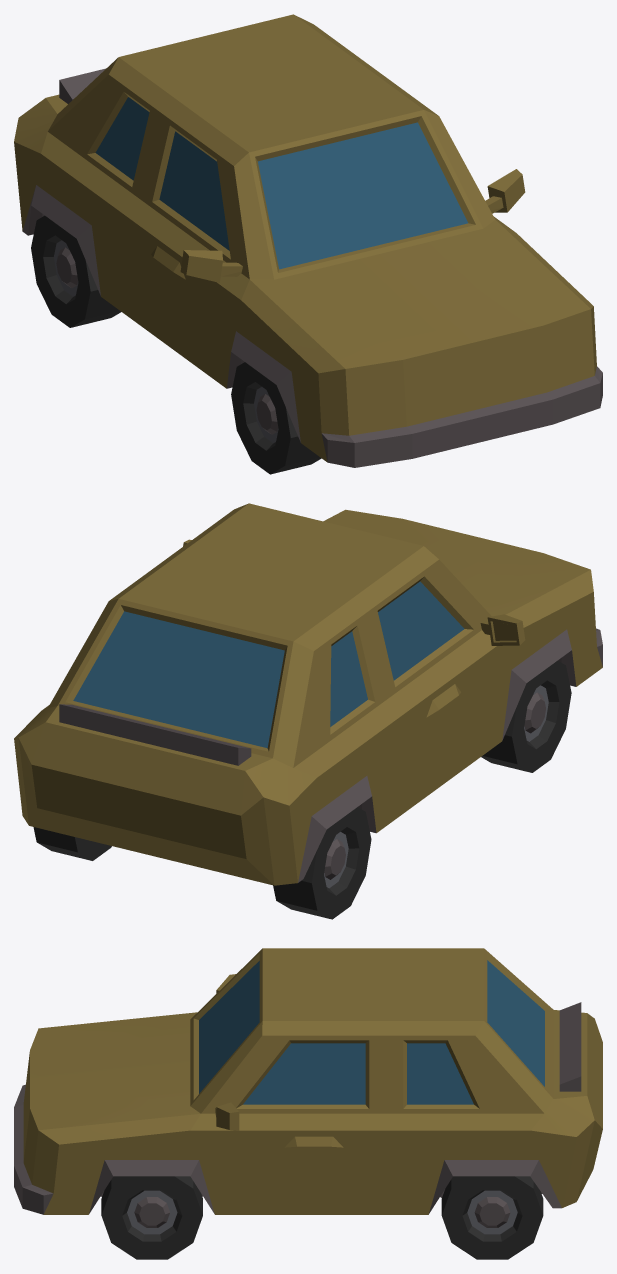
File: LP_VehicleH.fbx
3 views of the same model, one above another, from view 1: azimuth 30°, elevation 25°; view 2: azimuth 150°, elevation 25°; view 3: azimuth 270°, elevation 25° (orthographic). The views are drawn at different scales.
Visible parts, largest first — view 1: VehicleH; view 2: VehicleH; view 3: VehicleH.
Part boxes in pixels (x1,y1,x2,y2): VehicleH: (14, 14, 602, 474); VehicleH: (14, 503, 602, 919); VehicleH: (14, 948, 602, 1259).
Size of the model in its own units: 179 by 129 by 317.
